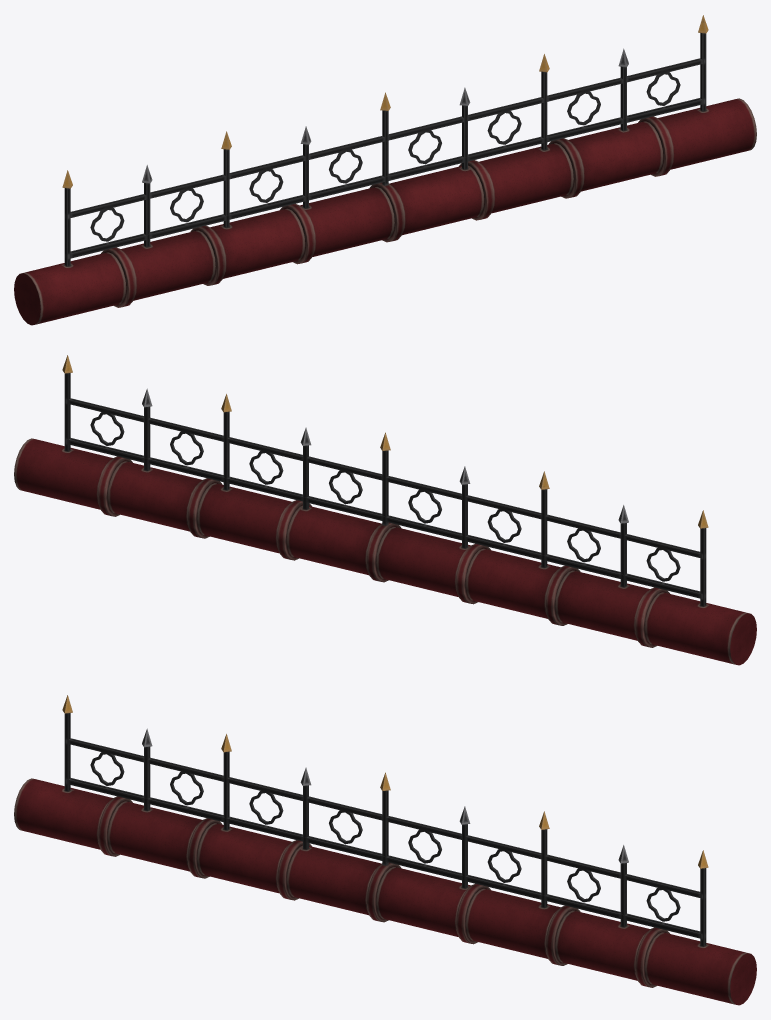
The model's file is RidgeCresting.fbx.
3 renders of one model, top to bottom at view 1: azimuth 30°, elevation 25°; view 2: azimuth 150°, elevation 25°; view 3: azimuth 330°, elevation 25°, orthographic.
Visible parts, largest first — view 1: RidgeCresting; view 2: RidgeCresting; view 3: RidgeCresting.
Part boxes in pixels (x1,y1,x2,y2): RidgeCresting: (14, 15, 756, 325); RidgeCresting: (14, 355, 756, 665); RidgeCresting: (14, 695, 756, 1005).
Bounding box in the file's own units: 800 × 158 × 59.
